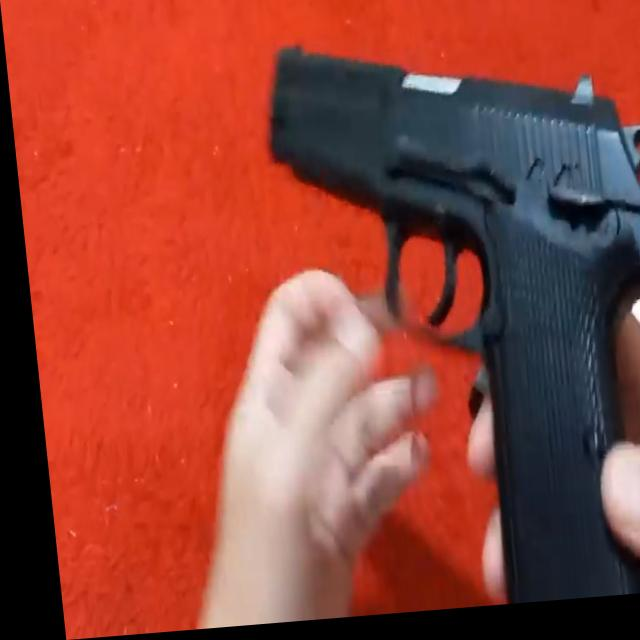handgun: (254, 19, 640, 624)
